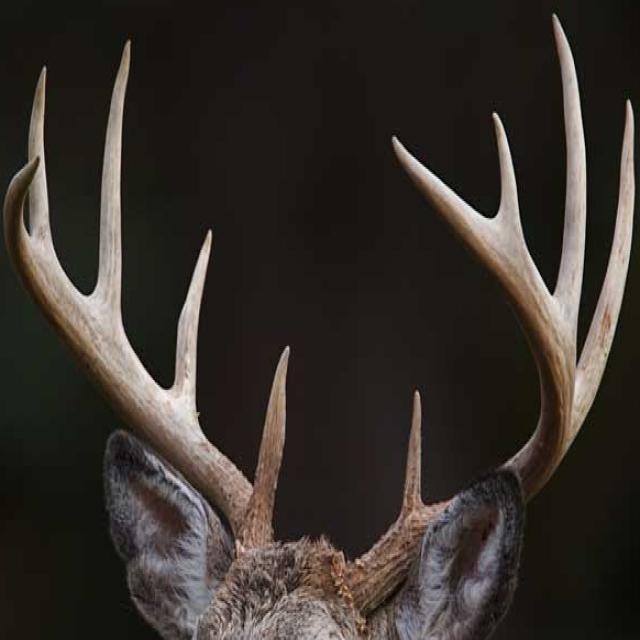L-G1: (402, 388, 424, 513)
L-G2: (569, 98, 634, 446)
L-G3: (551, 11, 587, 337)
L-G4: (492, 110, 524, 241)
R-F: (3, 155, 276, 557)
R-G1: (248, 345, 290, 522)
R-G2: (168, 227, 213, 420)
R-G3: (91, 36, 131, 320)
R-G4: (27, 65, 51, 243)
